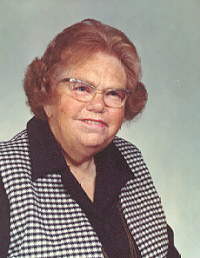without_mask: (46, 52, 132, 153)
